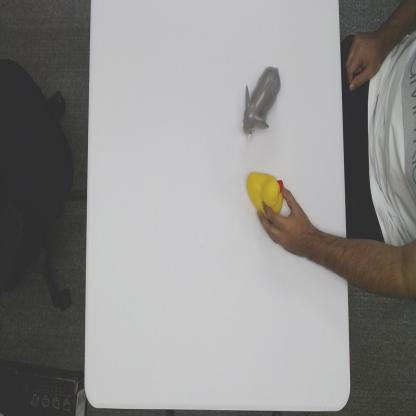Arm: (312, 222, 348, 281)
Duck: (245, 166, 284, 217)
Elephant: (240, 62, 282, 140)
Hand: (256, 184, 310, 260)
